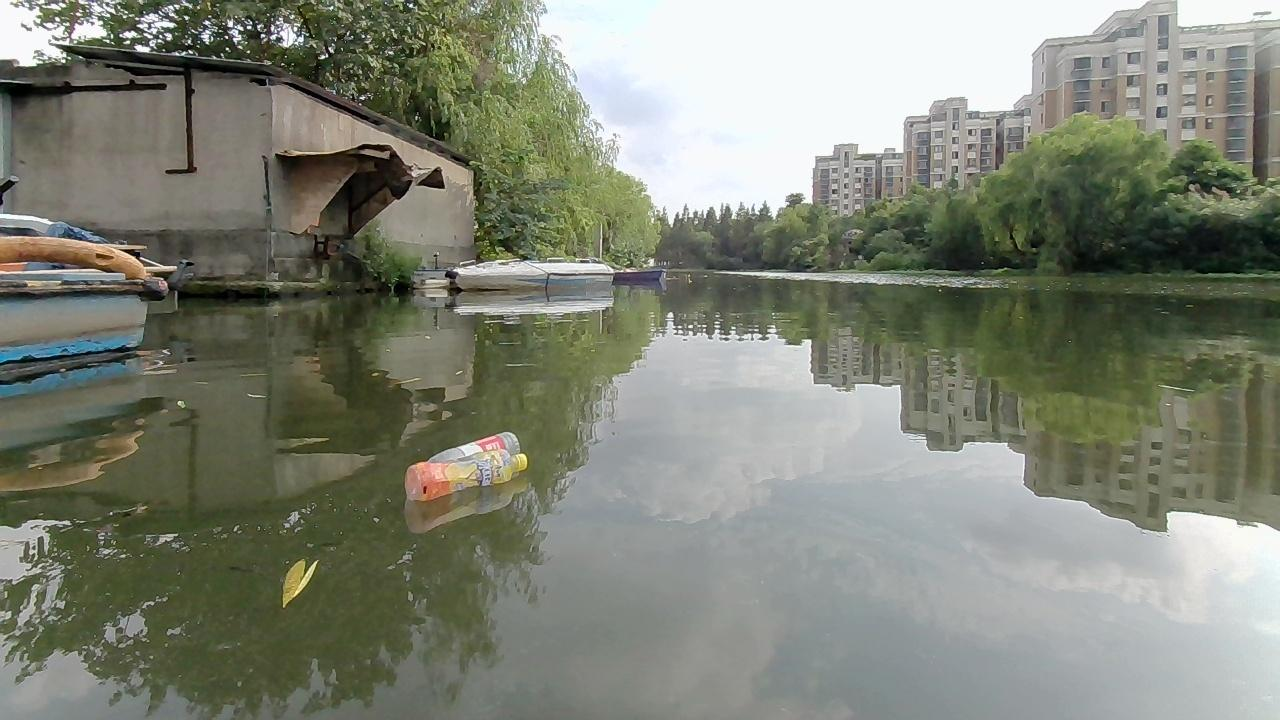bottle: (406, 449, 528, 502), (420, 428, 521, 472)
